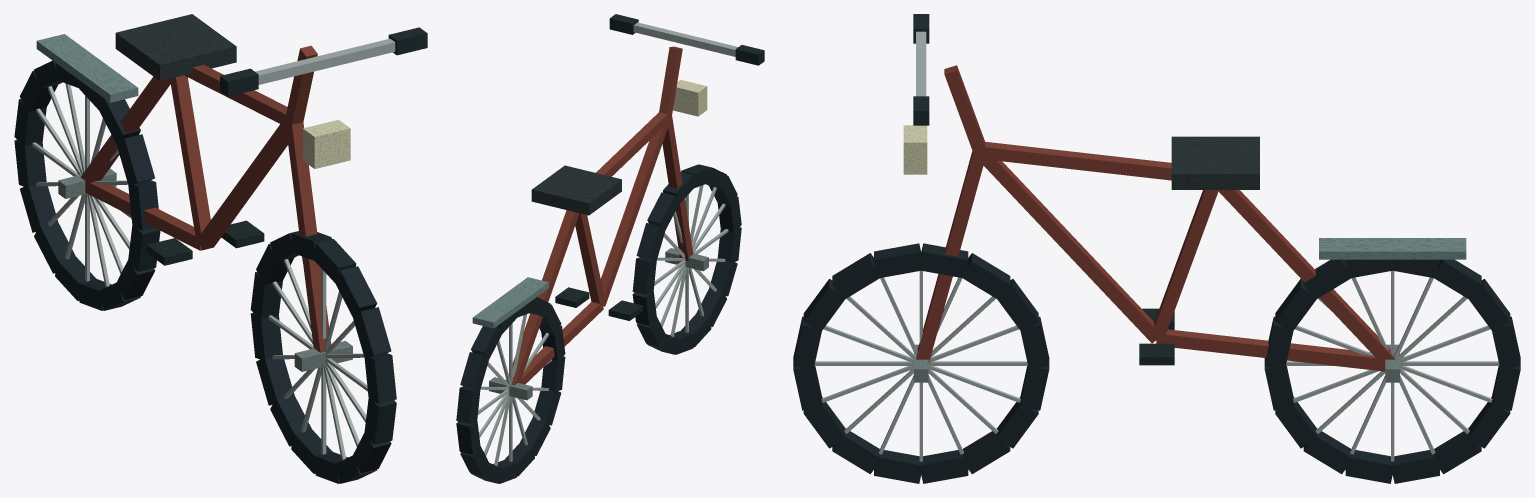
File: wybie_bicycle.glb
The picture shows the model from 3 angles, left to right: view 1: azimuth 30°, elevation 25°; view 2: azimuth 150°, elevation 25°; view 3: azimuth 270°, elevation 25°; orthographic projection. The views are drawn at different scales.
Parts seen in each view (by area): view 1: black saddle, red bicycle frame.005, rear mudguard, red bicycle frame.001, red bicycle frame.004, silver handlebar, red bicycle frame.002, front bicycle lamp, red bicycle frame, red bicycle frame.003, faceted tire.008, faceted tire.009 (+41 smaller); view 2: black saddle, red bicycle frame.004, red bicycle frame.002, rear mudguard, red bicycle frame.005, red bicycle frame, red bicycle frame.001, red bicycle frame.003, silver handlebar, front bicycle lamp, red bicycle frame.006, faceted tire.031 (+31 smaller); view 3: black saddle, red bicycle frame.004, red bicycle frame, red bicycle frame.002, red bicycle frame.003, rear mudguard, red bicycle frame.005, red bicycle frame.001, red bicycle frame.006, faceted tire.011, faceted tire.010, faceted tire.013 (+29 smaller).
Boxes of the visible parts, <box> form: black saddle: <box>115,14,236,80</box>; red bicycle frame.005: <box>285,121,331,352</box>; rear mudguard: <box>36,34,138,102</box>; red bicycle frame.001: <box>170,75,210,244</box>; red bicycle frame.004: <box>199,117,290,250</box>; silver handlebar: <box>255,38,395,84</box>; red bicycle frame.002: <box>80,76,170,186</box>; front bicycle lamp: <box>303,119,350,168</box>; red bicycle frame: <box>85,180,201,250</box>; red bicycle frame.003: <box>184,64,288,124</box>; faceted tire.008: <box>364,353,396,403</box>; faceted tire.009: <box>353,307,391,359</box>; black saddle: <box>531,165,621,215</box>; red bicycle frame.004: <box>601,116,671,306</box>; red bicycle frame.002: <box>506,210,579,385</box>; rear mudguard: <box>472,277,548,328</box>; red bicycle frame.005: <box>662,114,693,260</box>; red bicycle frame: <box>518,301,603,384</box>; red bicycle frame.001: <box>575,213,604,307</box>; red bicycle frame.003: <box>596,112,669,176</box>; silver handlebar: <box>633,22,737,56</box>; front bicycle lamp: <box>673,79,707,116</box>; red bicycle frame.006: <box>659,46,682,116</box>; faceted tire.031: <box>456,386,480,423</box>; black saddle: <box>1171,136,1259,189</box>; red bicycle frame.004: <box>975,150,1156,343</box>; red bicycle frame: <box>1156,329,1385,371</box>; red bicycle frame.002: <box>1218,190,1394,366</box>; red bicycle frame.003: <box>979,141,1171,180</box>; rear mudguard: <box>1319,238,1466,259</box>; red bicycle frame.005: <box>916,151,986,363</box>; red bicycle frame.001: <box>1151,190,1218,341</box>; red bicycle frame.006: <box>944,65,985,152</box>; faceted tire.011: <box>874,243,922,277</box>; faceted tire.010: <box>832,253,881,299</box>; faceted tire.013: <box>961,253,1010,299</box>.
Size of the model in its own units: 0.4875 by 0.9761 by 1.54.
Materials: 10 (10 with a texture image).
